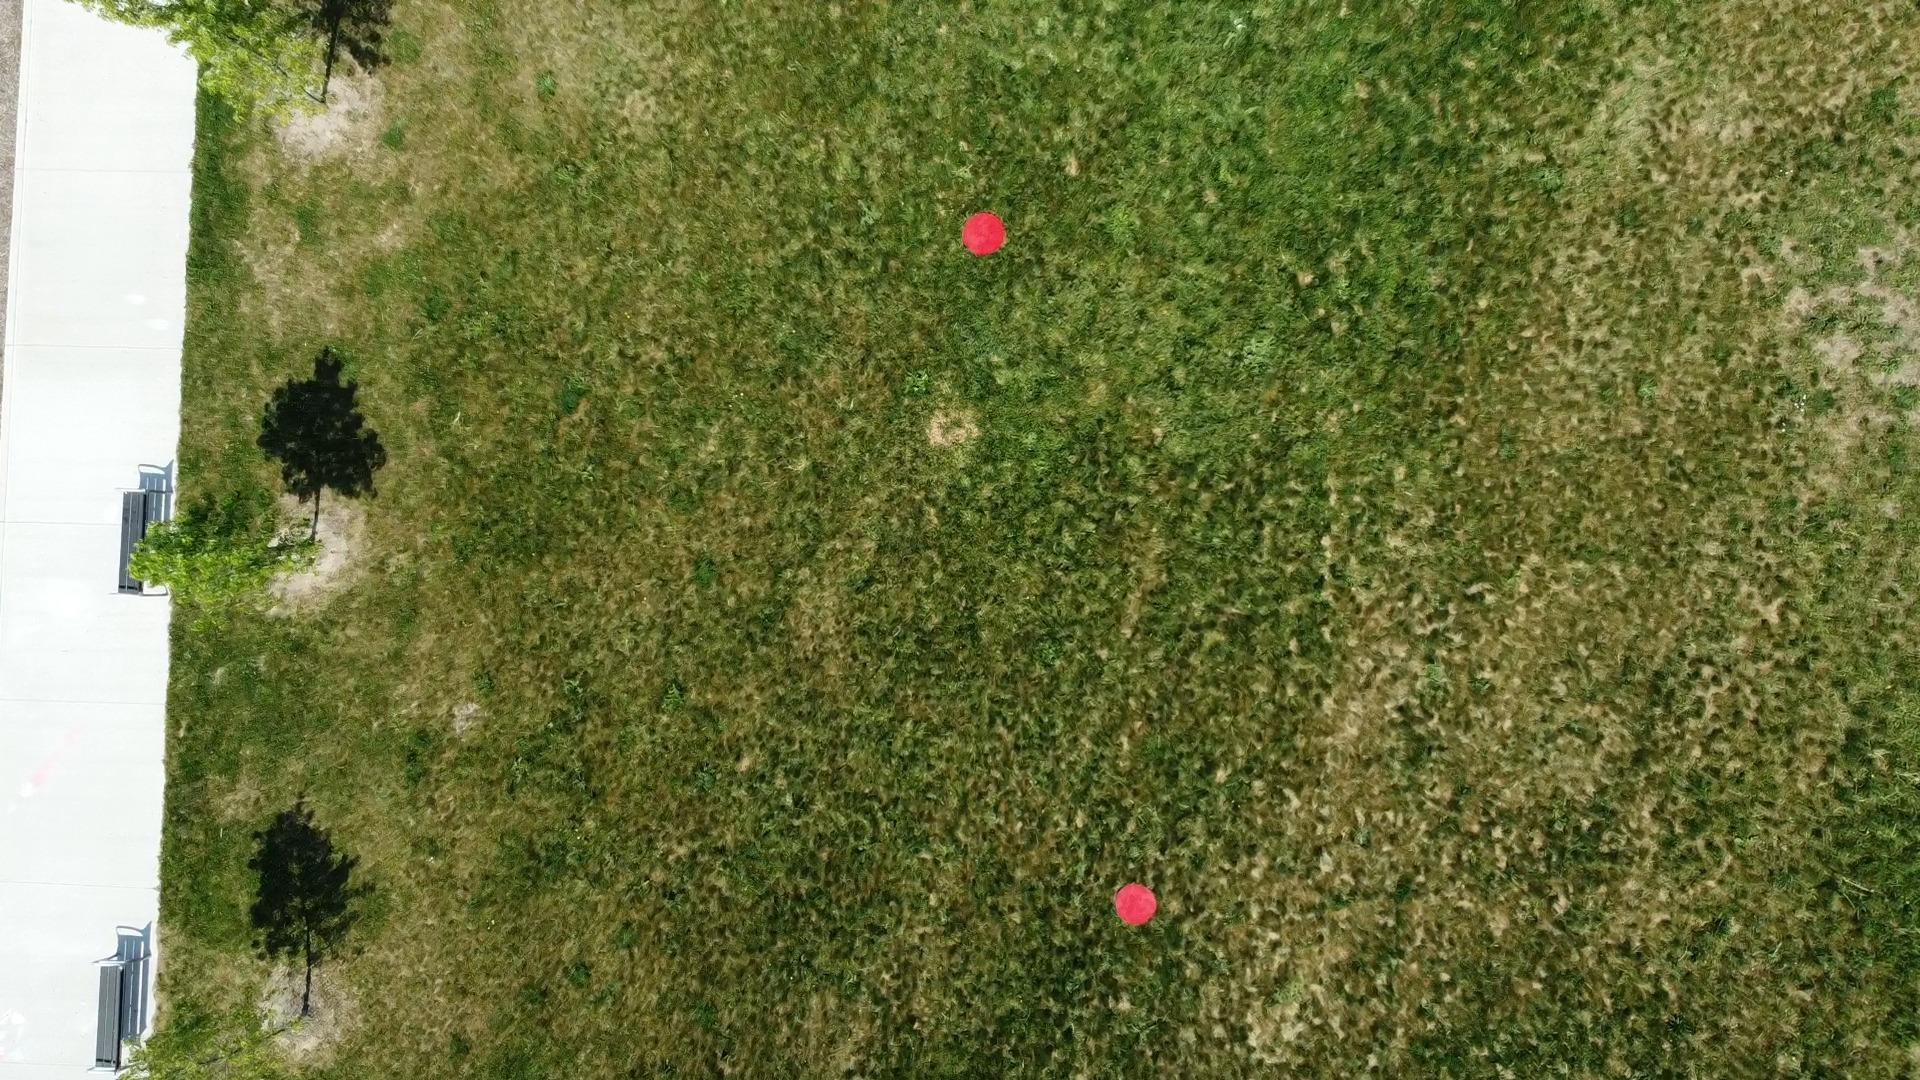Red: (1112, 880, 1159, 930), (961, 208, 1007, 257)
